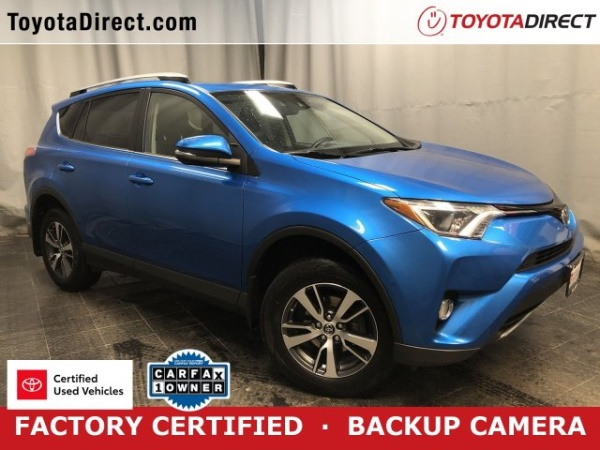Toyota RAV-4: (22, 79, 584, 400)
